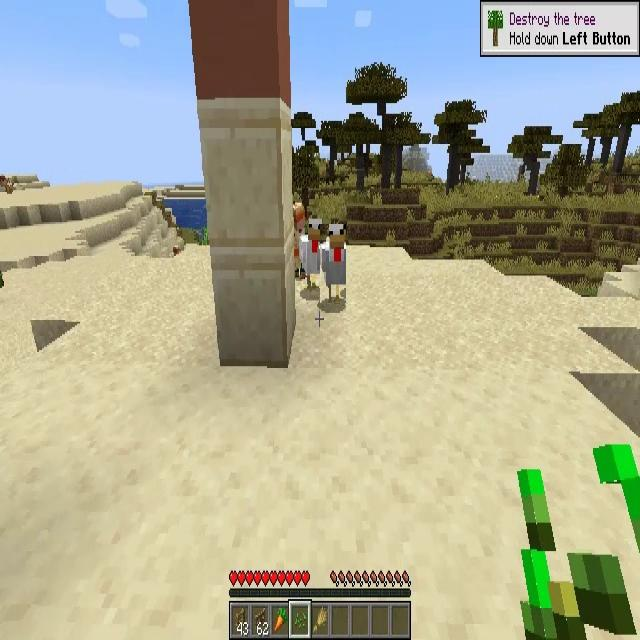duck: (320, 224, 346, 303), (300, 218, 323, 286)
